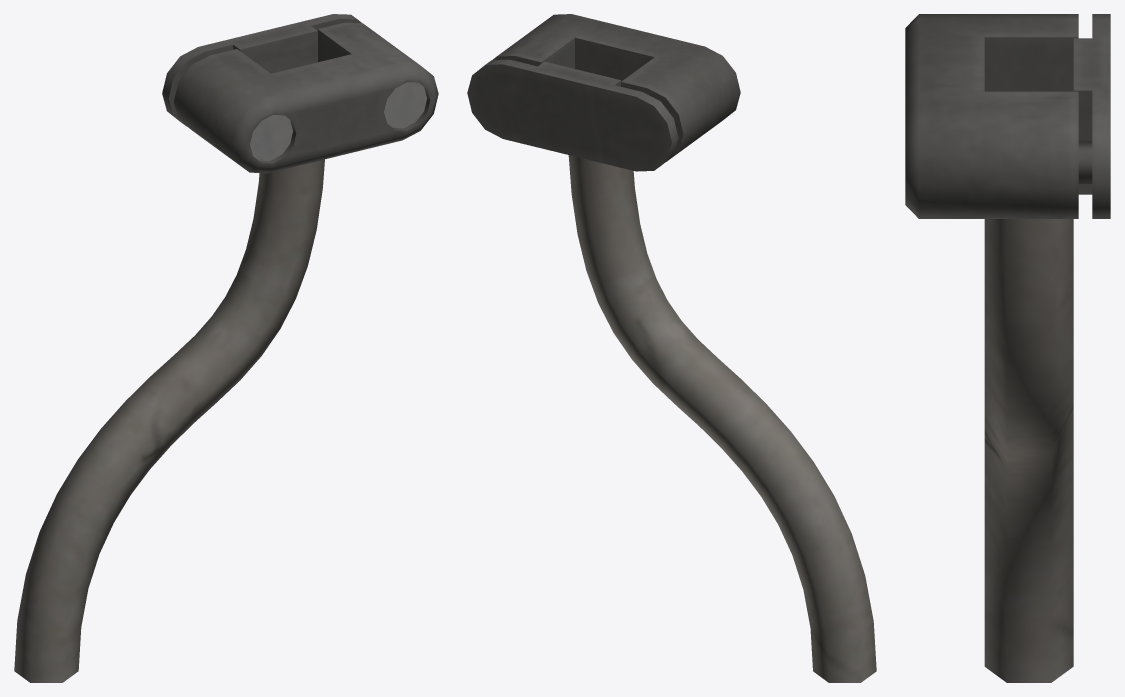
Rendered from cable_scurve_4.glb.
3 views of the same model, side by side, from view 1: azimuth 30°, elevation 25°; view 2: azimuth 150°, elevation 25°; view 3: azimuth 270°, elevation 25° (orthographic). The views are drawn at different scales.
Parts seen in each view (by area): view 1: cable_scurve_4.001; view 2: cable_scurve_4.001; view 3: cable_scurve_4.001.
Part boxes in pixels (x1,y1,x2,y2): cable_scurve_4.001: (14, 14, 438, 682); cable_scurve_4.001: (467, 14, 876, 682); cable_scurve_4.001: (905, 14, 1110, 682).
Size of the model in its own units: 0.0757 by 0.1073 by 0.0259.
Materials: 1 (1 with a texture image).
